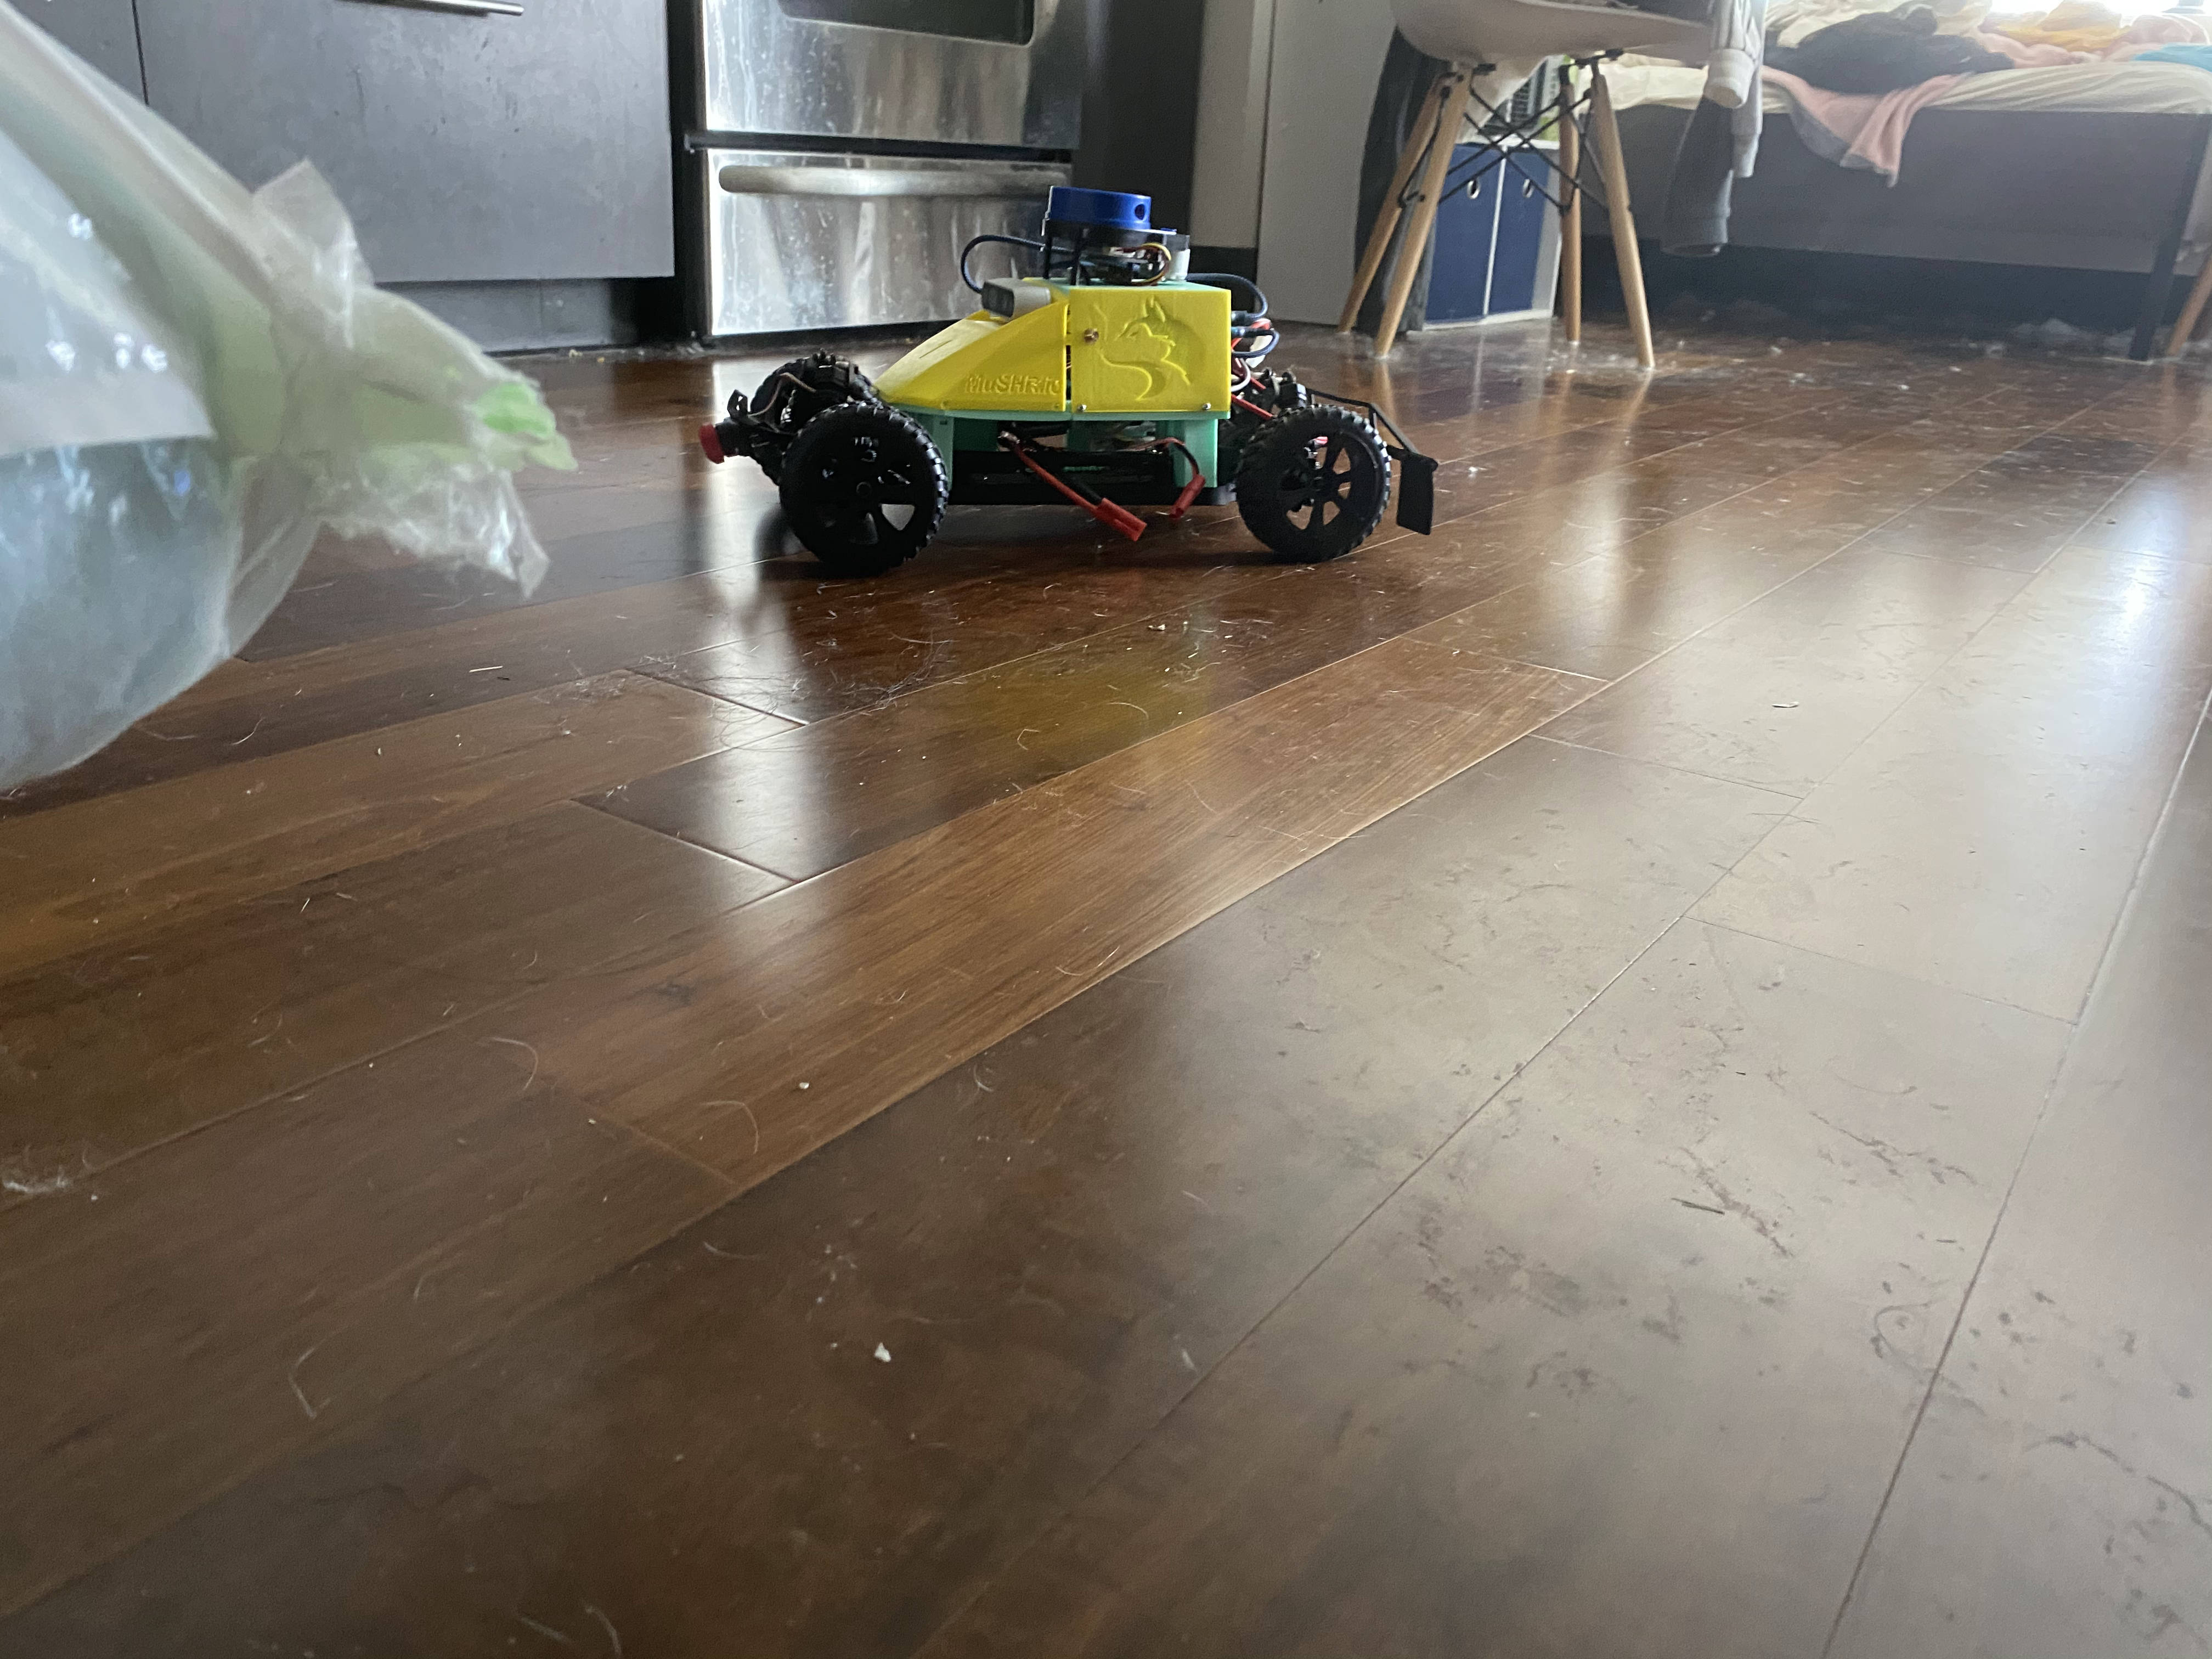mushr_car: (669, 174, 1453, 580)
